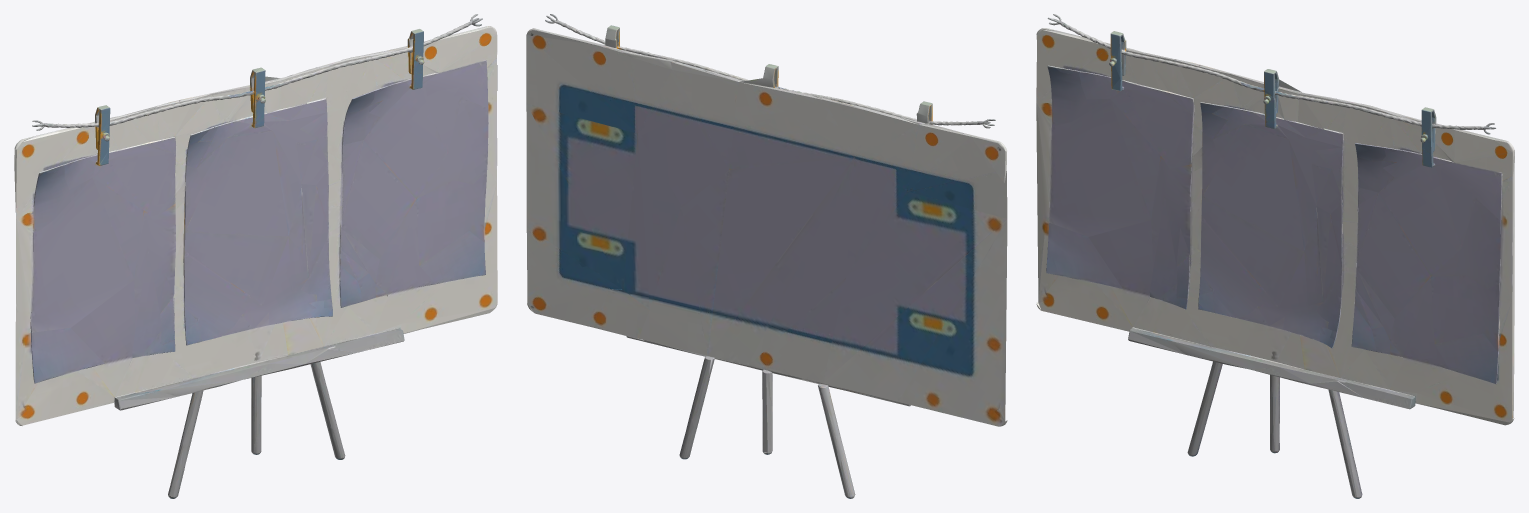
The model's file is document-board.gltf.
3 renders of one model, left to right at view 1: azimuth 30°, elevation 25°; view 2: azimuth 150°, elevation 25°; view 3: azimuth 330°, elevation 25°, orthographic.
Size of the model in its own units: 1.9 by 1.56 by 0.085.
1 material, 1 textured.
